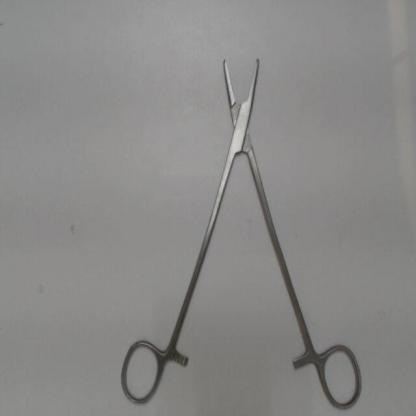8 Mayo Needle Holder: (114, 49, 368, 414)
